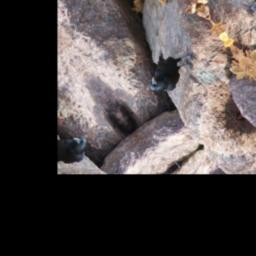Crow: (131, 32, 205, 102)
